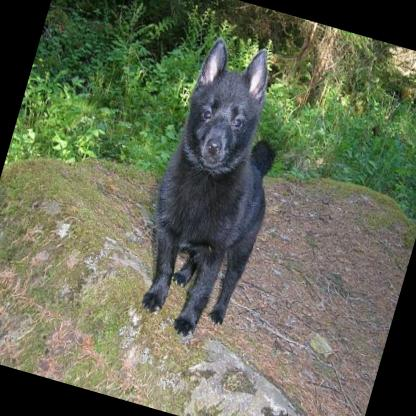schipperke: (124, 27, 313, 348)
